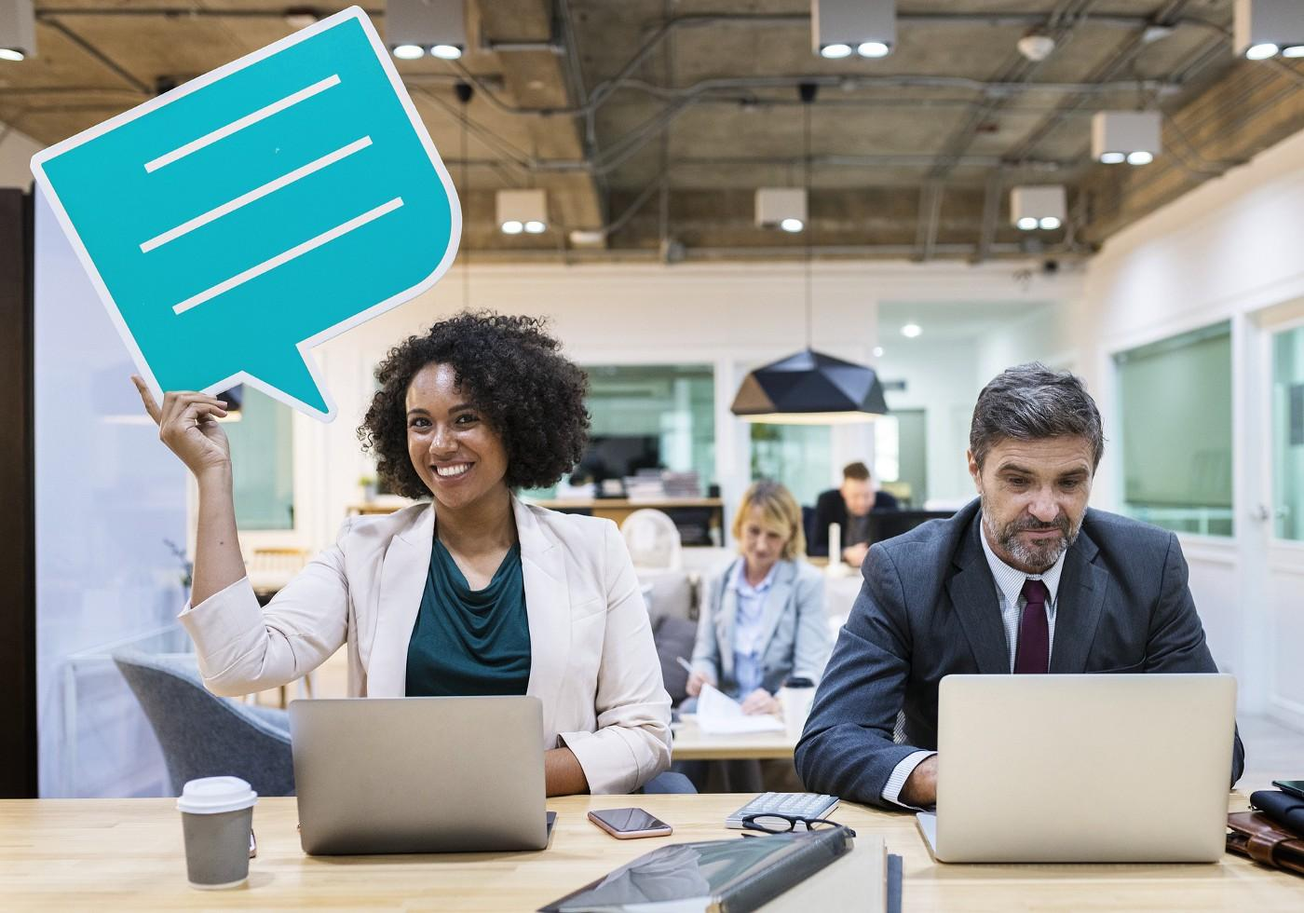No_Goggles: (987, 461, 1094, 497), (402, 402, 489, 440)
No_Helmet: (376, 308, 583, 407), (955, 359, 1107, 452), (733, 478, 797, 520)
